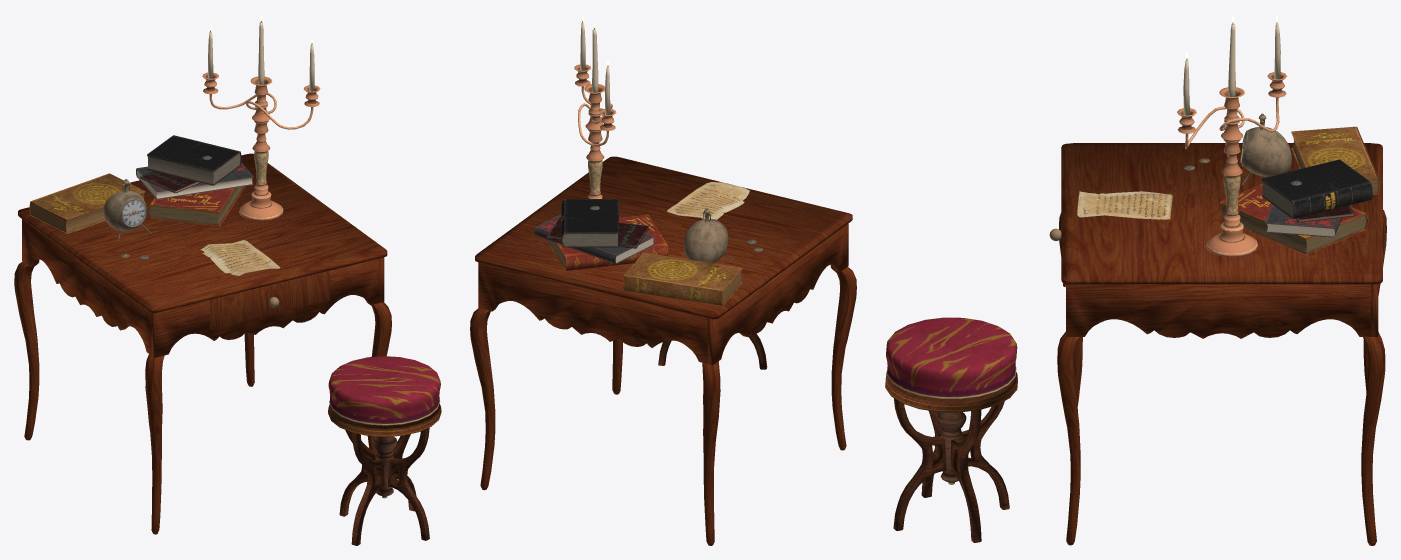
File: table.fbx
3 renders of one model, left to right at view 1: azimuth 30°, elevation 25°; view 2: azimuth 150°, elevation 25°; view 3: azimuth 270°, elevation 25°, orthographic. The views are drawn at different scales.
Parts seen in each view (by area): view 1: Table_Tablea_0, Sit_Stooll_0, Stool_Stooll_0, Candelabra, Table Pac, book2_low001_BooksWhNames_0, book1_low001_BooksWhNames_0, book3_low001_BooksWhNames_0, page_low, Clock_Clockk_0, book4_low001_BooksWhNames_0, book5_low001_BooksWhNames_0; view 2: Table_Tablea_0, book2_low001_BooksWhNames_0, Candelabra, book1_low001_BooksWhNames_0, page_low, book3_low001_BooksWhNames_0, Clock_Clockk_0, book4_low001_BooksWhNames_0, book5_low001_BooksWhNames_0, Stool_Stooll_0; view 3: Table_Tablea_0, Sit_Stooll_0, Stool_Stooll_0, Candelabra, book1_low001_BooksWhNames_0, book2_low001_BooksWhNames_0, book3_low001_BooksWhNames_0, page_low, Clock_Clockk_0, book4_low001_BooksWhNames_0.
Boxes of the visible parts, bbox=[...] form: Table_Tablea_0: bbox=[14, 153, 391, 534]; Sit_Stooll_0: bbox=[328, 356, 440, 425]; Stool_Stooll_0: bbox=[328, 403, 441, 545]; Candelabra: bbox=[202, 21, 320, 220]; Table Pac: bbox=[210, 270, 329, 329]; book2_low001_BooksWhNames_0: bbox=[29, 173, 145, 233]; book1_low001_BooksWhNames_0: bbox=[147, 135, 241, 185]; book3_low001_BooksWhNames_0: bbox=[147, 186, 245, 226]; page_low: bbox=[200, 240, 280, 275]; Clock_Clockk_0: bbox=[103, 179, 151, 241]; book4_low001_BooksWhNames_0: bbox=[136, 162, 253, 199]; book5_low001_BooksWhNames_0: bbox=[140, 171, 200, 193]; Table_Tablea_0: bbox=[470, 156, 856, 545]; book2_low001_BooksWhNames_0: bbox=[623, 253, 742, 305]; Candelabra: bbox=[574, 21, 616, 198]; book1_low001_BooksWhNames_0: bbox=[561, 199, 618, 247]; page_low: bbox=[667, 182, 749, 219]; book3_low001_BooksWhNames_0: bbox=[546, 214, 668, 270]; Clock_Clockk_0: bbox=[684, 208, 733, 263]; book4_low001_BooksWhNames_0: bbox=[534, 214, 654, 263]; book5_low001_BooksWhNames_0: bbox=[547, 216, 648, 248]; Stool_Stooll_0: bbox=[658, 333, 767, 369]; Table_Tablea_0: bbox=[1057, 143, 1386, 545]; Sit_Stooll_0: bbox=[886, 317, 1017, 398]; Stool_Stooll_0: bbox=[885, 371, 1017, 542]; Candelabra: bbox=[1177, 23, 1287, 257]; book1_low001_BooksWhNames_0: bbox=[1261, 159, 1372, 218]; book2_low001_BooksWhNames_0: bbox=[1291, 126, 1379, 194]; book3_low001_BooksWhNames_0: bbox=[1220, 184, 1368, 255]; page_low: bbox=[1077, 191, 1172, 219]; Clock_Clockk_0: bbox=[1240, 113, 1291, 184]; book4_low001_BooksWhNames_0: bbox=[1265, 205, 1341, 237].
Size of the model in its own units: 89.28 by 150 by 136.
8 materials, 8 textured.
